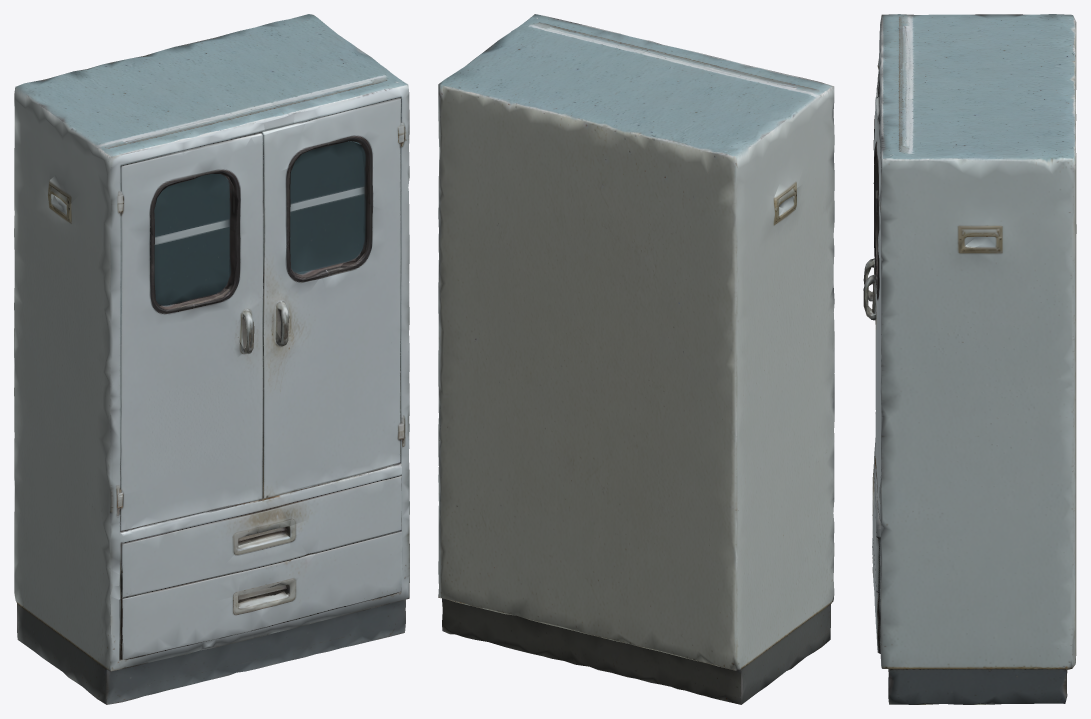
File: CFD_EmergencyCabinet.fbx
3 views of the same model, side by side, from view 1: azimuth 30°, elevation 25°; view 2: azimuth 150°, elevation 25°; view 3: azimuth 270°, elevation 25° (orthographic).
Parts seen in each view (by area): view 1: CFD_EmergencyCabinet_LOD0; view 2: CFD_EmergencyCabinet_LOD0; view 3: CFD_EmergencyCabinet_LOD0.
Part boxes in pixels (x1,y1,x2,y2): CFD_EmergencyCabinet_LOD0: (14,14,409,704); CFD_EmergencyCabinet_LOD0: (438,14,834,704); CFD_EmergencyCabinet_LOD0: (863,14,1076,704).
Size of what is drawn, in the model's own units: 80.56 by 140 by 49.34.
